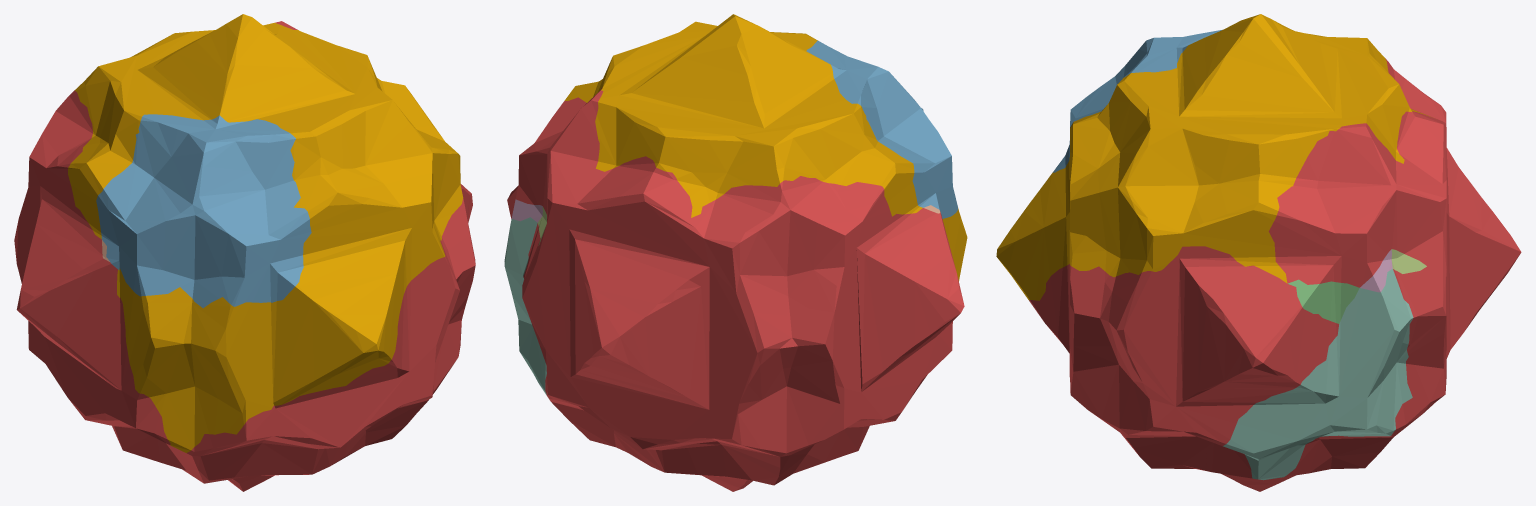
File: fractured_34_8pcs.glb
The picture shows the model from 3 angles, left to right: view 1: azimuth 30°, elevation 25°; view 2: azimuth 150°, elevation 25°; view 3: azimuth 270°, elevation 25°; orthographic projection.
Parts seen in each view (by area): view 1: piece_0.obj, piece_1.obj, piece_2.obj; view 2: piece_1.obj, piece_0.obj, piece_2.obj, piece_4.obj, piece_6.obj; view 3: piece_1.obj, piece_0.obj, piece_4.obj, piece_2.obj, piece_3.obj, piece_6.obj.
Part boxes in pixels (x1,y1,x2,y2): piece_0.obj: (68, 14, 463, 452); piece_1.obj: (14, 21, 475, 491); piece_2.obj: (96, 114, 311, 308); piece_1.obj: (507, 87, 964, 491); piece_0.obj: (564, 14, 967, 281); piece_2.obj: (806, 40, 957, 218); piece_4.obj: (504, 217, 546, 394); piece_6.obj: (511, 199, 542, 222); piece_1.obj: (1029, 58, 1521, 491); piece_0.obj: (996, 14, 1430, 300); piece_4.obj: (1223, 269, 1413, 480); piece_2.obj: (1053, 29, 1222, 172); piece_3.obj: (1288, 279, 1359, 323); piece_6.obj: (1360, 249, 1392, 292).
Bounding box in the file's own units: 0.9951 × 1 × 0.9982.
